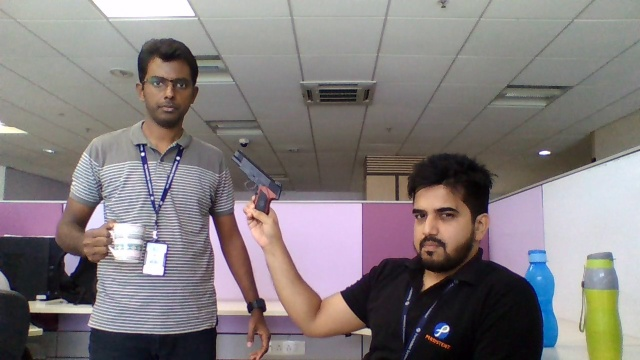gun: (231, 149, 281, 192)
